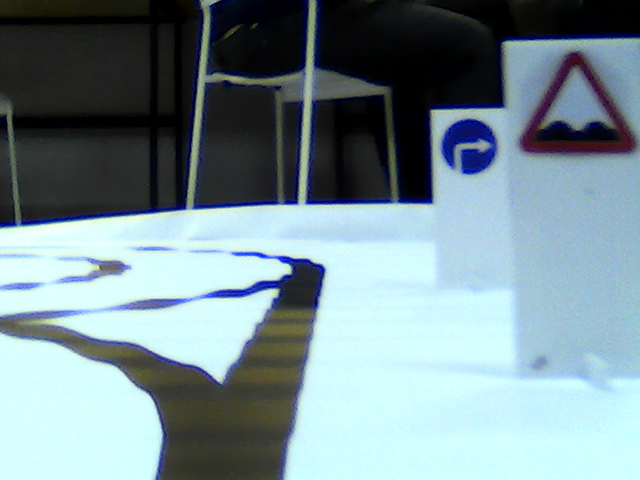Nerov: (517, 49, 636, 156)
Right: (440, 119, 496, 174)
